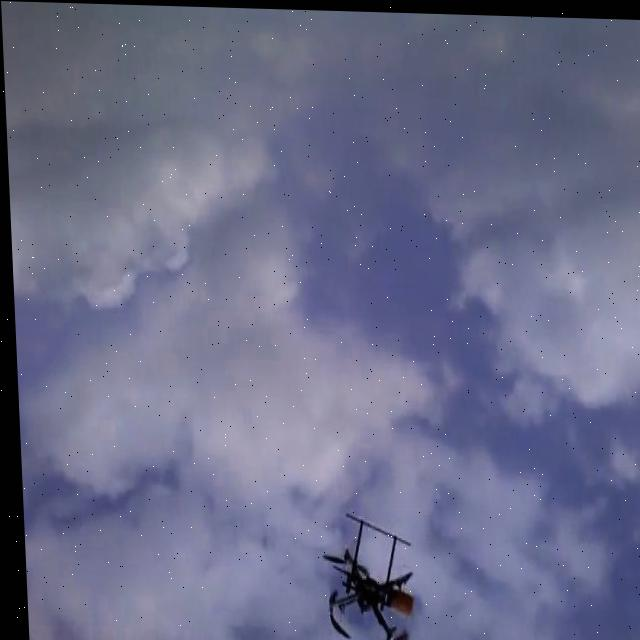drone: (313, 509, 417, 640)
